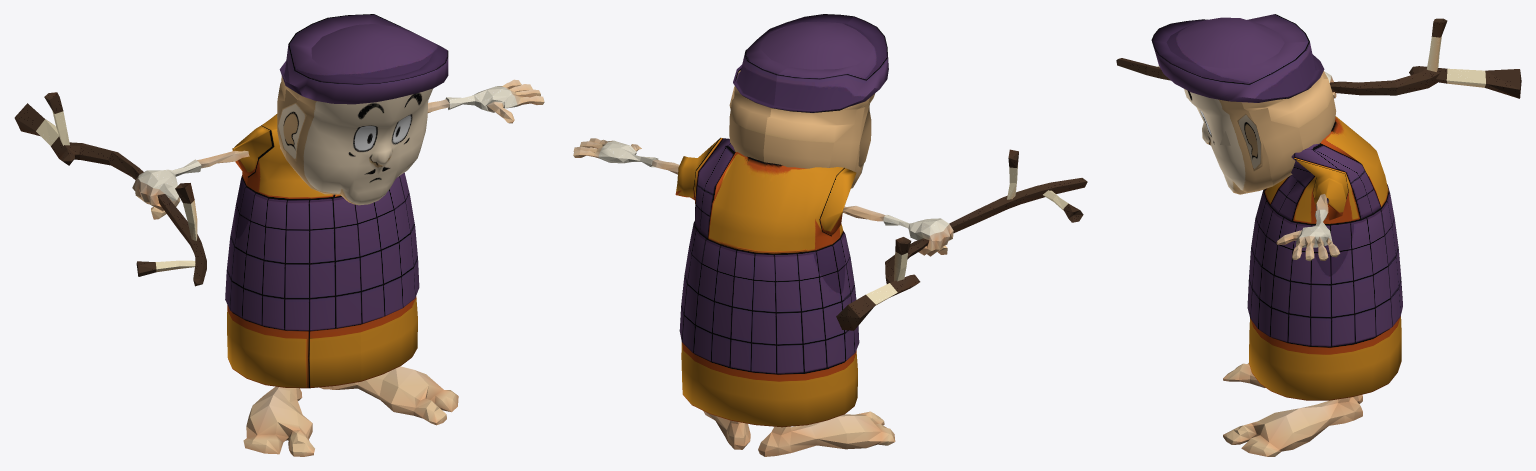
File: farmer-lod0.glb
3 views of the same model, side by side, from view 1: azimuth 30°, elevation 25°; view 2: azimuth 150°, elevation 25°; view 3: azimuth 270°, elevation 25° (orthographic). The views are drawn at different scales.
Visible parts, largest first — view 1: NPB_avt; view 2: NPB_avt; view 3: NPB_avt.
Boxes of the visible parts, x1=… form: NPB_avt: x1=14, y1=14, x2=544, y2=456; NPB_avt: x1=573, y1=14, x2=1087, y2=456; NPB_avt: x1=1116, y1=14, x2=1521, y2=456.
Size of the model in its own units: 4.68 by 3.85 by 3.69.
Materials: 5 (5 with a texture image).
